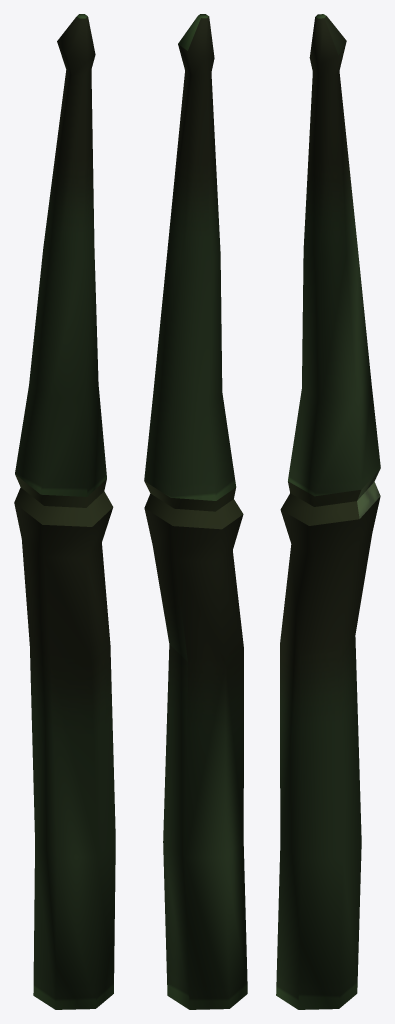
File: Phase 3 Bamboo 4.fbx
3 renders of one model, left to right at view 1: azimuth 90°, elevation 25°; view 2: azimuth 150°, elevation 25°; view 3: azimuth 330°, elevation 25°, orthographic.
Visible parts, largest first — view 1: Phase 3 Bamboo 4; view 2: Phase 3 Bamboo 4; view 3: Phase 3 Bamboo 4.
Part boxes in pixels (bbox=[...]): Phase 3 Bamboo 4: bbox=[14, 14, 115, 1009]; Phase 3 Bamboo 4: bbox=[144, 14, 247, 1009]; Phase 3 Bamboo 4: bbox=[276, 14, 380, 1009].
Size of the model in its own units: 28.75 by 338 by 31.97.
